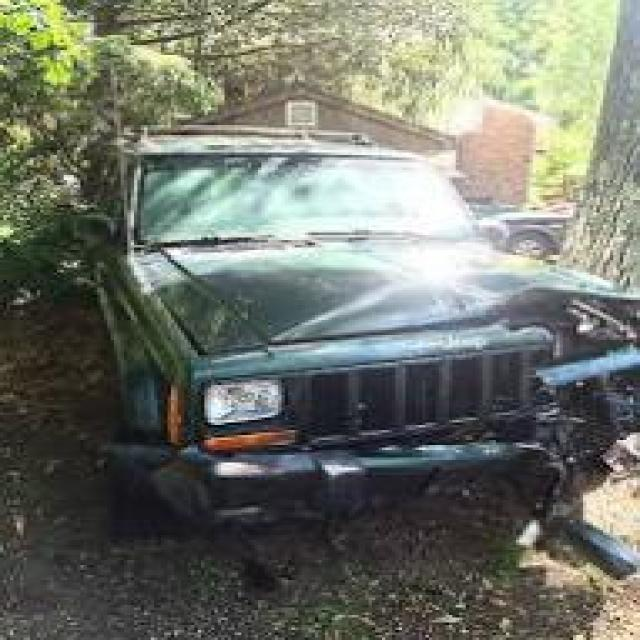Bonnet: (135, 234, 640, 355)
Bumper: (122, 411, 640, 542)
Light: (527, 311, 640, 420)
